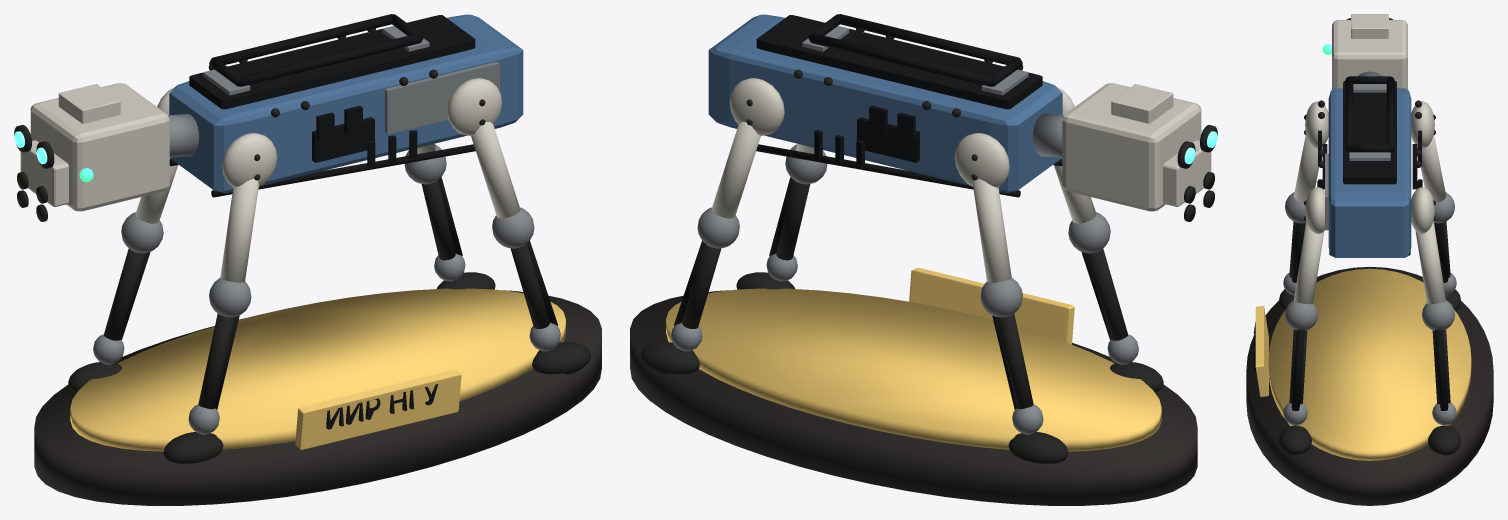
Rendered from EscapeArtifactBlender.fbx.
3 views of the same model, side by side, from view 1: azimuth 30°, elevation 25°; view 2: azimuth 150°, elevation 25°; view 3: azimuth 270°, elevation 25° (orthographic). The views are drawn at different scales.
Visible parts, largest first — view 1: RoboDog_Trophy_Gold_Rim, RoboDog_Trophy_Oval_Base, StudentMade_RoboDog_Long_Body, RoboDog_Faceted_Head, RoboDog_Black_Top_Rail, RoboDog_Trophy_Nameplate, RoboDog_Back_Service_Panel, RoboDog_FrontLeft_Upper_Leg, RoboDog_RearLeft_Upper_Leg, RoboDog_RearLeft_Hip_Disc, RoboDog_FrontLeft_Hip_Disc, RoboDog_Top_Handle_Front (+24 smaller); view 2: RoboDog_Trophy_Gold_Rim, RoboDog_Trophy_Oval_Base, StudentMade_RoboDog_Long_Body, RoboDog_Faceted_Head, RoboDog_Black_Top_Rail, RoboDog_Trophy_Nameplate, RoboDog_FrontRight_Upper_Leg, RoboDog_RearRight_Upper_Leg, RoboDog_RearRight_Hip_Disc, RoboDog_FrontRight_Hip_Disc, RoboDog_Top_Handle_Back, RoboDog_Top_Handle_Front (+22 smaller); view 3: RoboDog_Trophy_Gold_Rim, RoboDog_Trophy_Oval_Base, StudentMade_RoboDog_Long_Body, RoboDog_Faceted_Head, RoboDog_Black_Top_Rail, RoboDog_RearLeft_Upper_Leg, RoboDog_RearRight_Upper_Leg, RoboDog_Trophy_Nameplate, RoboDog_FrontLeft_Upper_Leg, RoboDog_FrontRight_Upper_Leg, RoboDog_Forehead_Lidar_Bump, RoboDog_RearRight_Hip_Disc (+24 smaller).
Part boxes in pixels (left/top/right/bottom): RoboDog_Trophy_Gold_Rim: left=70, top=288, right=565, bottom=451; RoboDog_Trophy_Oval_Base: left=34, top=290, right=601, bottom=505; StudentMade_RoboDog_Long_Body: left=169, top=14, right=523, bottom=192; RoboDog_Faceted_Head: left=30, top=83, right=169, bottom=211; RoboDog_Black_Top_Rail: left=189, top=15, right=475, bottom=109; RoboDog_Trophy_Nameplate: left=295, top=369, right=461, bottom=449; RoboDog_Back_Service_Panel: left=385, top=62, right=499, bottom=134; RoboDog_FrontLeft_Upper_Leg: left=220, top=179, right=258, bottom=282; RoboDog_RearLeft_Upper_Leg: left=471, top=122, right=520, bottom=218; RoboDog_RearLeft_Hip_Disc: left=447, top=78, right=502, bottom=135; RoboDog_FrontLeft_Hip_Disc: left=222, top=133, right=277, bottom=187; RoboDog_Top_Handle_Front: left=240, top=33, right=421, bottom=86; RoboDog_Trophy_Gold_Rim: left=666, top=288, right=1161, bottom=451; RoboDog_Trophy_Oval_Base: left=630, top=290, right=1197, bottom=505; StudentMade_RoboDog_Long_Body: left=708, top=14, right=1062, bottom=192; RoboDog_Faceted_Head: left=1062, top=83, right=1201, bottom=211; RoboDog_Black_Top_Rail: left=756, top=15, right=1042, bottom=109; RoboDog_Trophy_Nameplate: left=909, top=267, right=1074, bottom=344; RoboDog_FrontRight_Upper_Leg: left=973, top=179, right=1011, bottom=282; RoboDog_RearRight_Upper_Leg: left=711, top=122, right=760, bottom=218; RoboDog_RearRight_Hip_Disc: left=729, top=78, right=784, bottom=135; RoboDog_FrontRight_Hip_Disc: left=954, top=133, right=1009, bottom=187; RoboDog_Top_Handle_Back: left=810, top=33, right=991, bottom=86; RoboDog_Top_Handle_Front: left=839, top=14, right=1020, bottom=64; RoboDog_Trophy_Gold_Rim: left=1268, top=268, right=1471, bottom=460; RoboDog_Trophy_Oval_Base: left=1246, top=267, right=1493, bottom=505; StudentMade_RoboDog_Long_Body: left=1328, top=88, right=1411, bottom=257; RoboDog_Faceted_Head: left=1332, top=20, right=1407, bottom=89; RoboDog_Black_Top_Rail: left=1343, top=81, right=1396, bottom=184; RoboDog_RearLeft_Upper_Leg: left=1294, top=221, right=1324, bottom=304; RoboDog_RearRight_Upper_Leg: left=1415, top=221, right=1445, bottom=304; RoboDog_Trophy_Nameplate: left=1255, top=306, right=1268, bottom=396; RoboDog_FrontLeft_Upper_Leg: left=1294, top=135, right=1322, bottom=202; RoboDog_FrontRight_Upper_Leg: left=1417, top=135, right=1445, bottom=202; RoboDog_Forehead_Lidar_Bump: left=1351, top=14, right=1388, bottom=38; RoboDog_RearRight_Hip_Disc: left=1411, top=187, right=1434, bottom=233.
Size of the model in its own units: 319 by 205 by 156.
